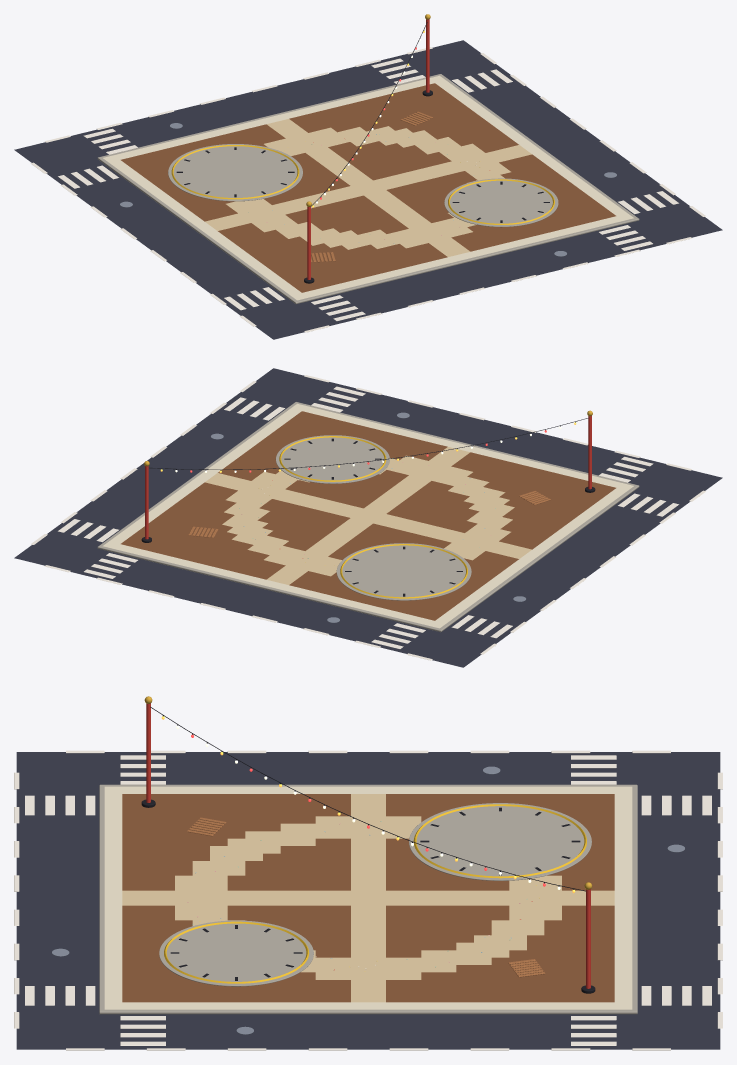
File: tile_fair.glb
3 views of the same model, one above another, from view 1: azimuth 30°, elevation 25°; view 2: azimuth 150°, elevation 25°; view 3: azimuth 270°, elevation 25° (orthographic). The views are drawn at different scales.
Visible parts, largest first — view 1: tile_fair; view 2: tile_fair; view 3: tile_fair.
Boxes of the visible parts, <box> form: tile_fair: <box>14,14,722,339</box>; tile_fair: <box>14,368,722,667</box>; tile_fair: <box>14,696,722,1050</box>.
Bounding box in the file's own units: 40.3 × 6.97 × 40.3.
1 material, 1 textured.
